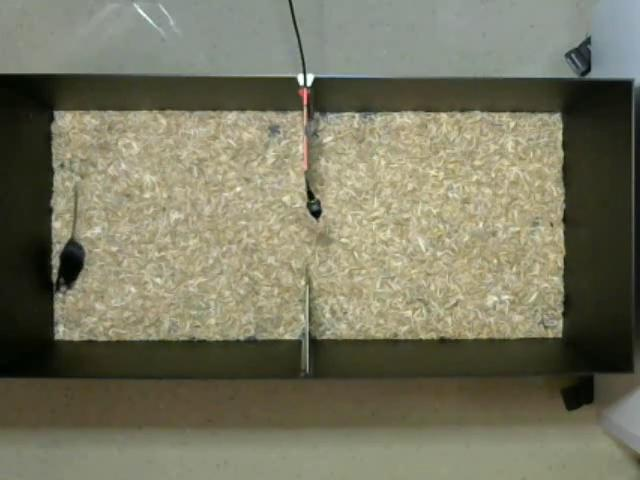rat: (55, 184, 85, 292)
